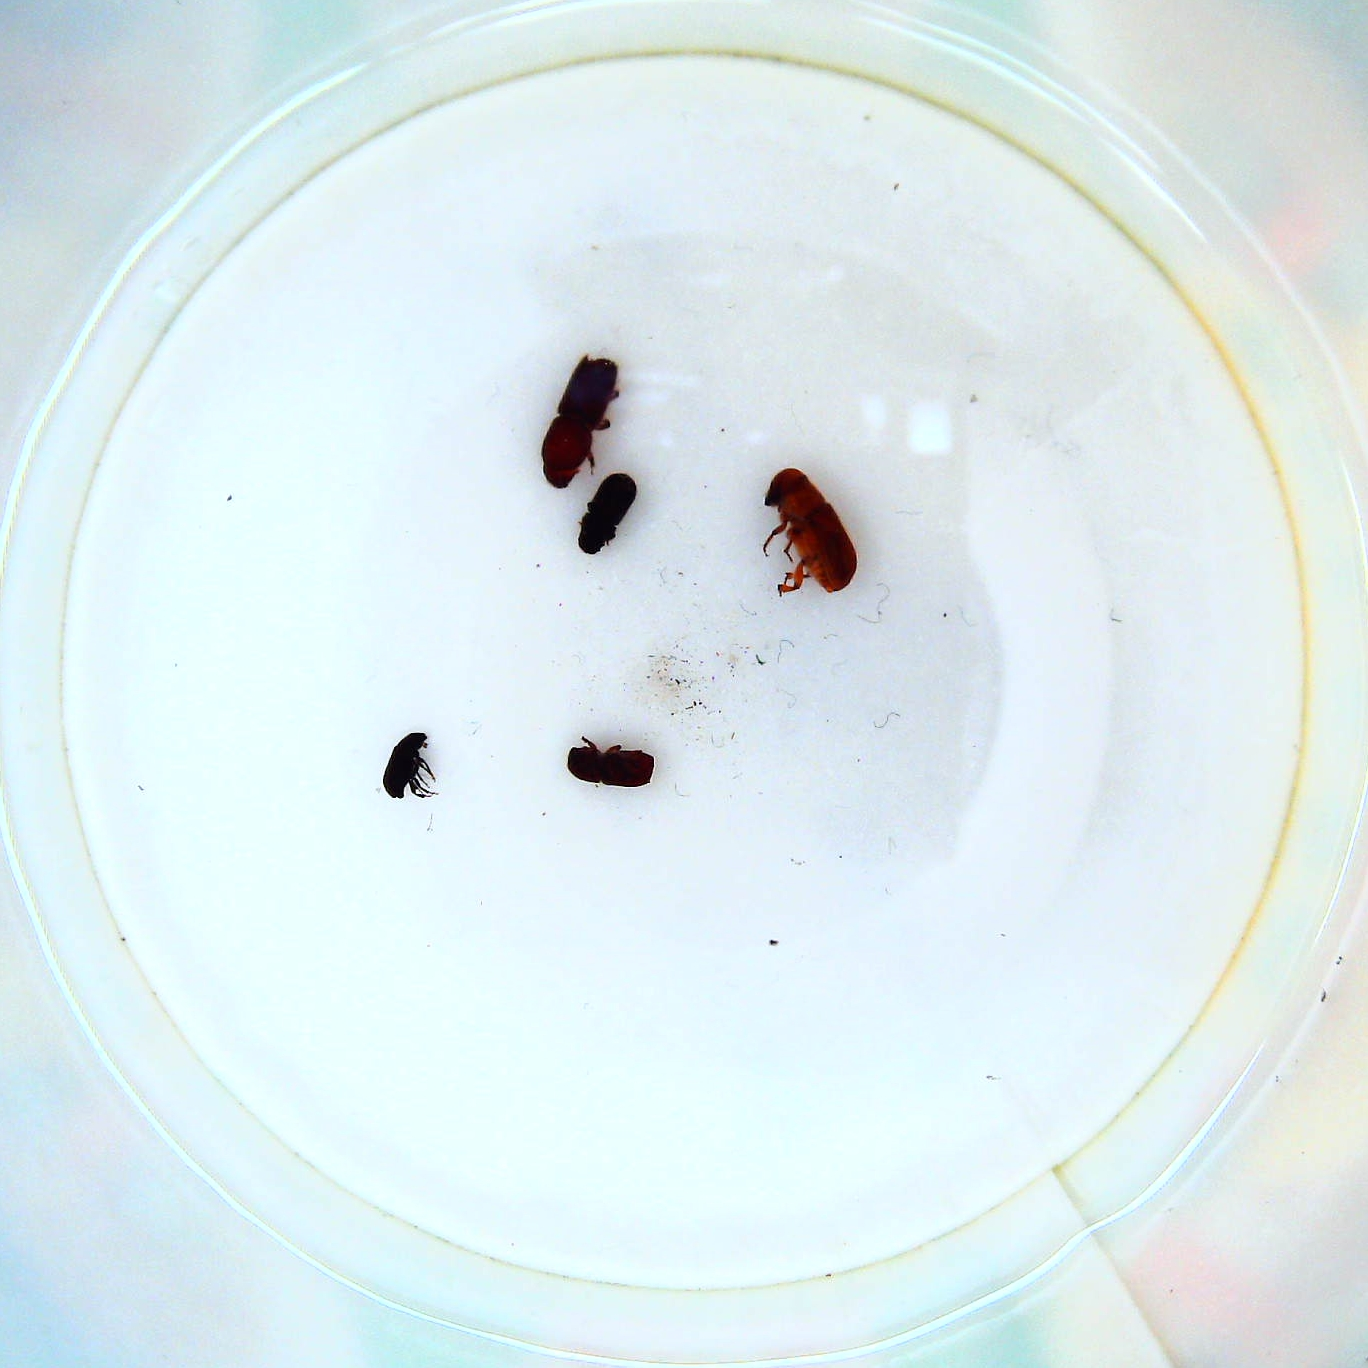Boerner: (532, 351, 630, 495)
Leconte: (754, 464, 866, 600)
armandi: (576, 470, 639, 562)
coleoptera: (376, 729, 438, 807)
linnaeus: (559, 734, 664, 792)
